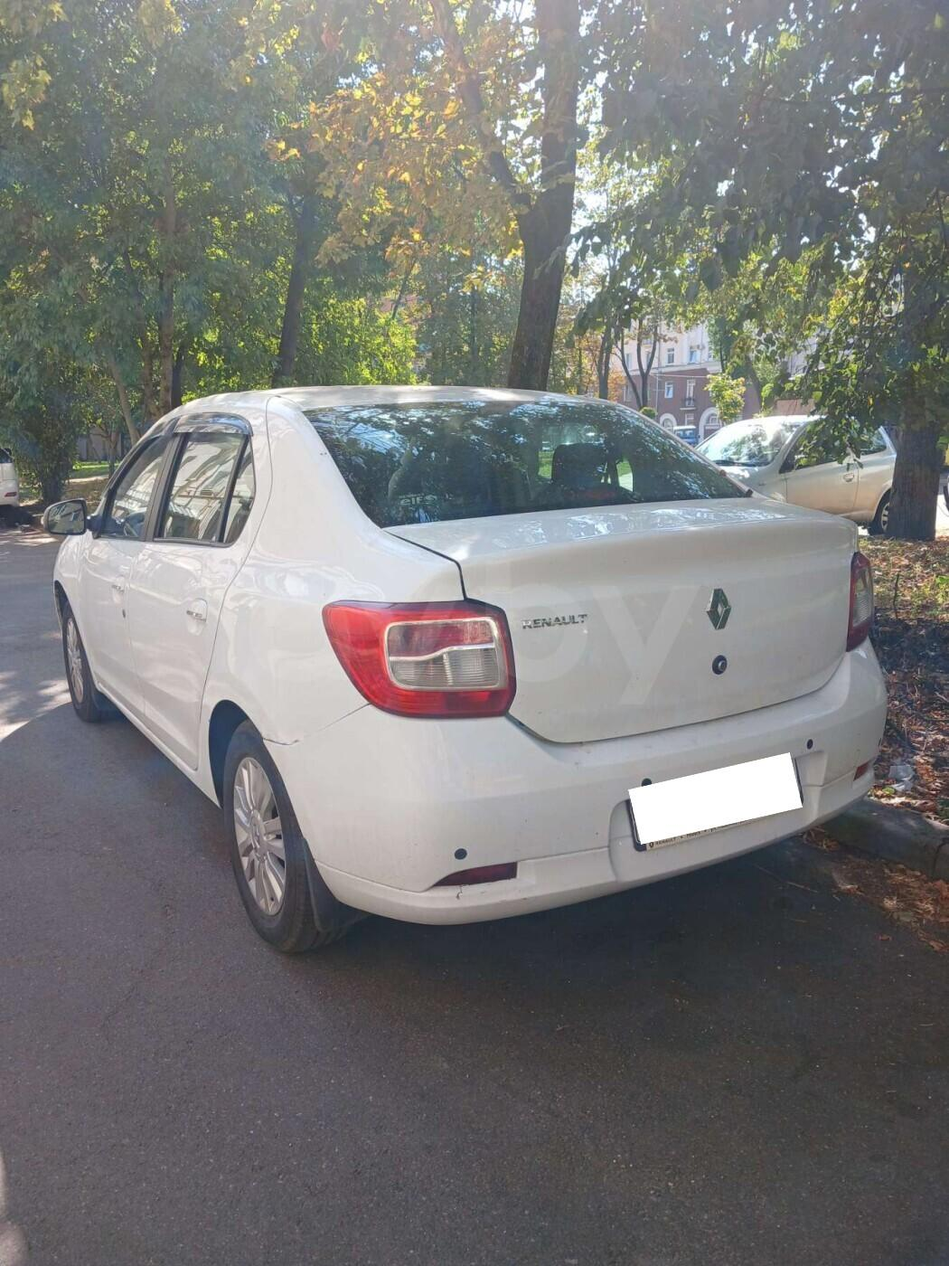Logan_2013-2018: (40, 383, 900, 964)
